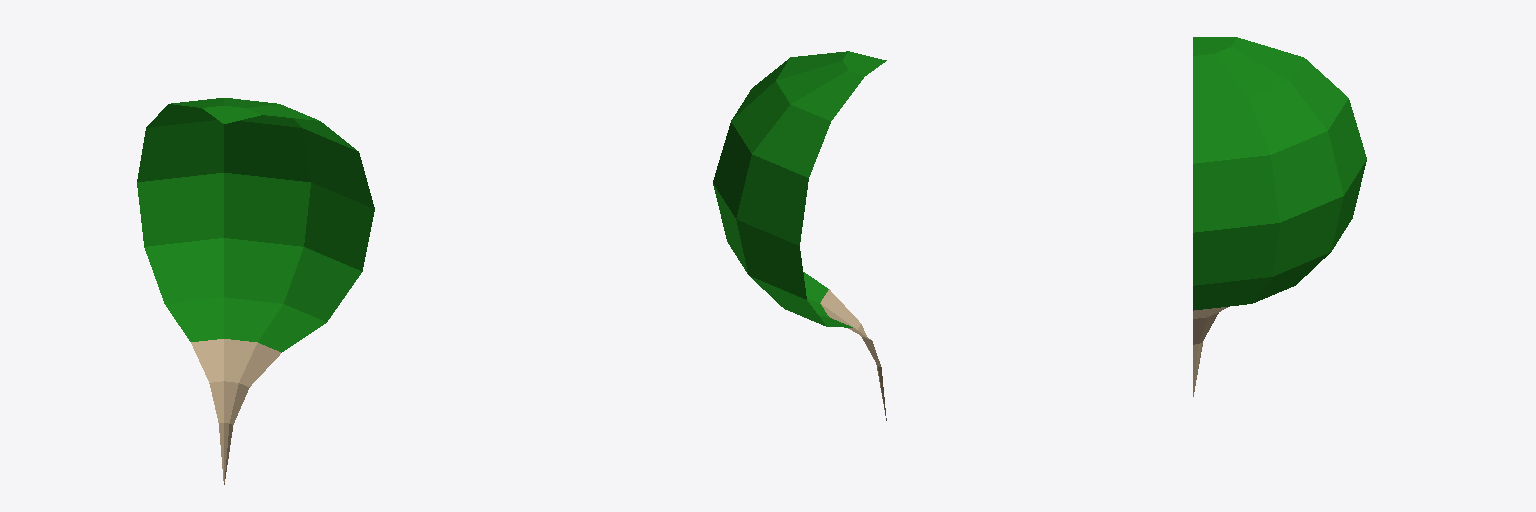
Rendered from Escarpment_Terrain_Corner_Outer_1x1_Top.obj.
The picture shows the model from 3 angles: view 1: azimuth 30°, elevation 25°; view 2: azimuth 150°, elevation 25°; view 3: azimuth 270°, elevation 25°; orthographic projection.
Visible parts, largest first — view 1: object1; view 2: object1; view 3: object1.
Part boxes in pixels (left/top/right/bottom): object1: left=137, top=98, right=374, bottom=484; object1: left=713, top=51, right=886, bottom=420; object1: left=1193, top=37, right=1366, bottom=396.
Bounding box in the file's own units: 0.3909 × 0.9 × 0.3909.